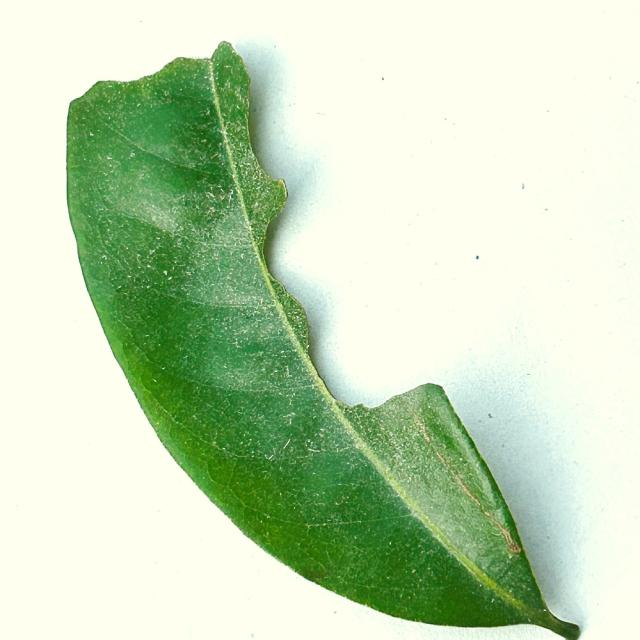Deficiency Leaf: (255, 81, 424, 391), (61, 30, 221, 81)
Lychee: (67, 44, 579, 639)
